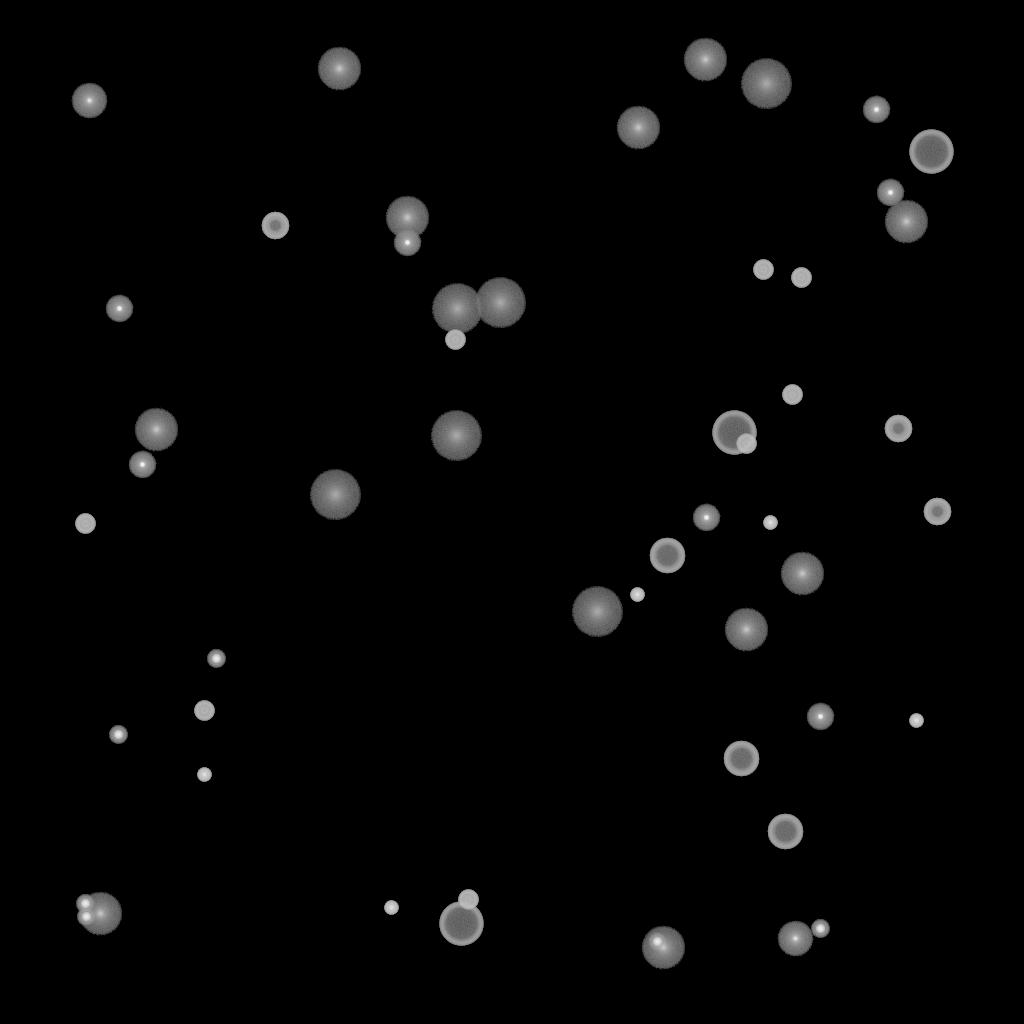depth:-10: (862, 96, 890, 124), (128, 451, 156, 479), (692, 504, 720, 532), (393, 229, 421, 257), (876, 179, 904, 207), (105, 295, 133, 323), (806, 703, 834, 731)
depth:-20: (207, 650, 225, 668), (648, 933, 666, 951), (77, 908, 95, 926), (109, 726, 127, 744), (76, 895, 94, 913), (811, 920, 829, 938)
depth:-30: (630, 588, 644, 602), (763, 516, 777, 530), (384, 901, 398, 915), (909, 714, 923, 728), (197, 768, 211, 782)
depth:-40: (736, 434, 756, 454), (791, 268, 811, 288), (458, 890, 478, 910), (753, 260, 773, 280), (782, 385, 802, 405), (75, 514, 95, 534), (445, 330, 465, 350), (194, 701, 214, 721)
depth:-50: (923, 498, 951, 526), (261, 212, 289, 240), (884, 415, 912, 443)
depth:-60: (723, 741, 759, 777), (767, 814, 803, 850), (649, 538, 685, 574)
depth:-70: (712, 411, 756, 455), (909, 130, 953, 174), (439, 902, 483, 946)
depth:0: (777, 921, 813, 957), (71, 83, 107, 119)
depth:10: (683, 38, 727, 82), (134, 408, 178, 452), (641, 926, 685, 970), (616, 106, 660, 150), (385, 196, 429, 240), (724, 608, 768, 652), (884, 200, 928, 244), (317, 47, 361, 91), (780, 552, 824, 596), (78, 892, 122, 936)
depth:20: (309, 470, 361, 520), (431, 284, 483, 334), (430, 411, 482, 461), (571, 587, 623, 637), (740, 59, 792, 109), (474, 278, 526, 328)
